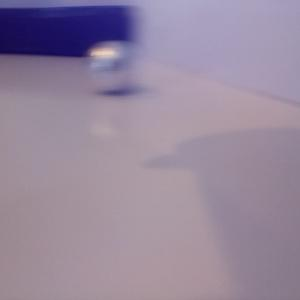zone: (1, 5, 130, 60)
